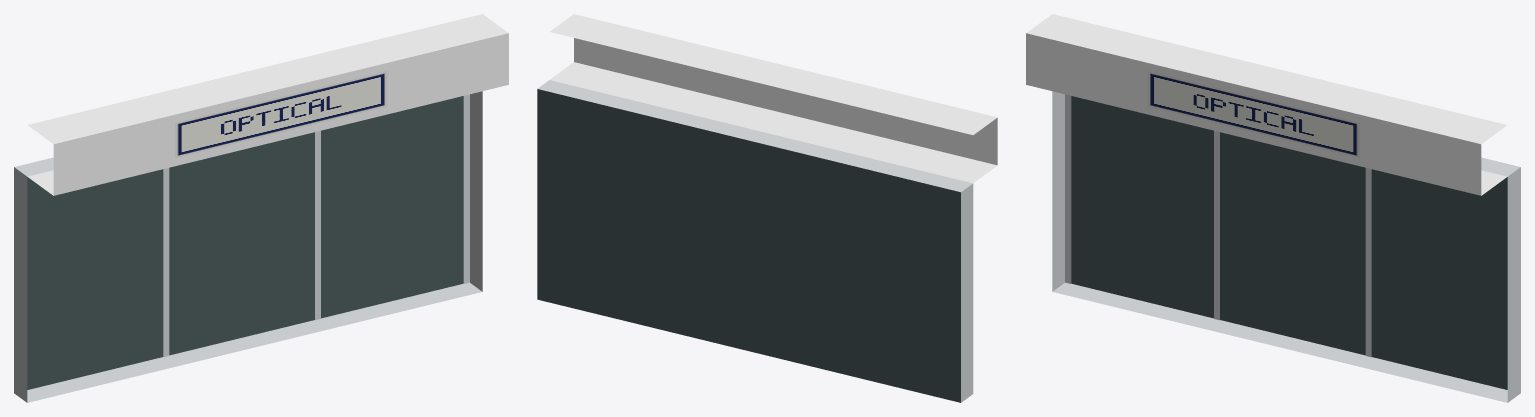
3 views of the same model, side by side, from view 1: azimuth 30°, elevation 25°; view 2: azimuth 150°, elevation 25°; view 3: azimuth 330°, elevation 25° (orthographic). The views are drawn at different scales.
Visible parts, largest first — view 1: a2009/400/base-w1; view 2: a2009/400/base-w1; view 3: a2009/400/base-w1.
Part boxes in pixels (x1,y1,x2,y2): a2009/400/base-w1: (14, 14, 508, 402); a2009/400/base-w1: (537, 14, 997, 402); a2009/400/base-w1: (1026, 14, 1520, 402).
Size of the model in its own units: 6 by 3.5 by 0.902.
